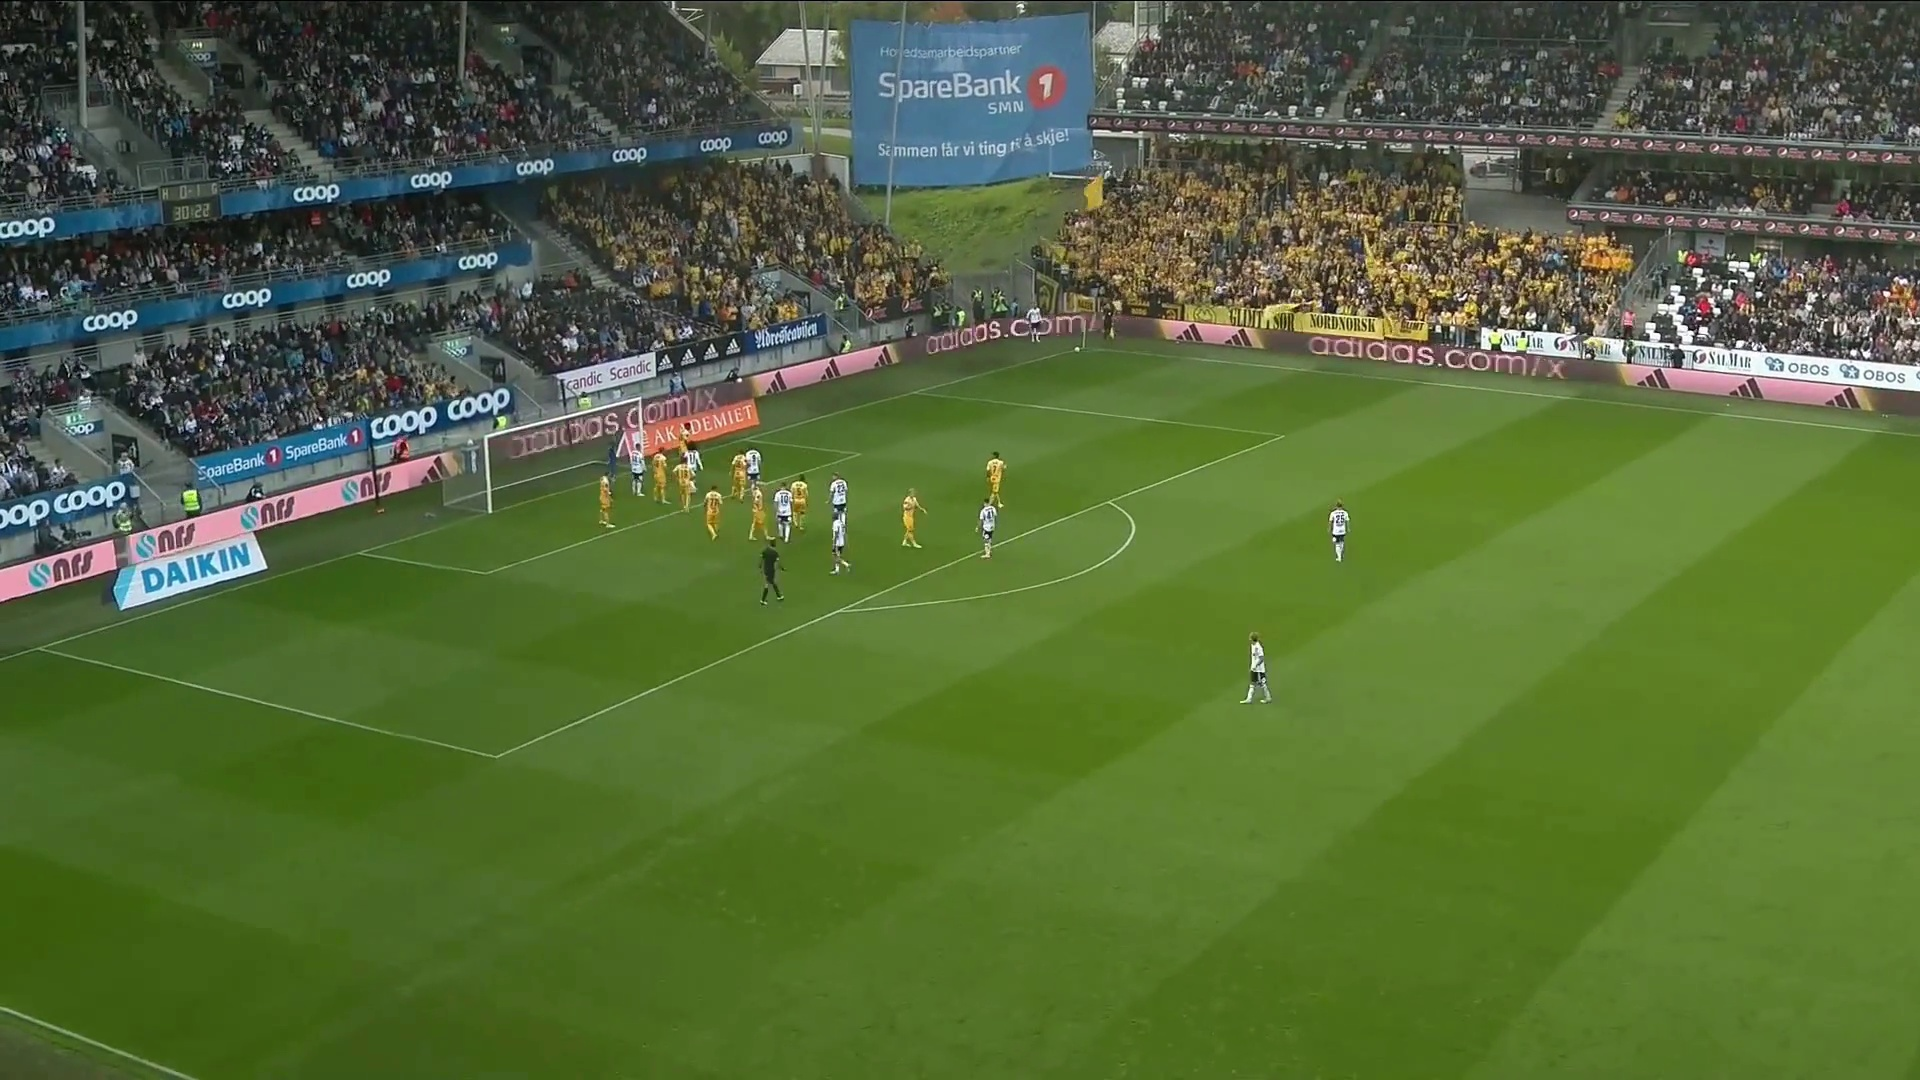ball: (1073, 346, 1081, 353)
player: (1239, 631, 1273, 705), (758, 540, 787, 605), (901, 487, 928, 548), (1328, 498, 1351, 563), (747, 483, 772, 542), (829, 511, 852, 575), (976, 496, 998, 560), (985, 450, 1007, 508), (773, 483, 794, 543), (673, 457, 695, 513), (789, 473, 809, 531), (703, 484, 723, 541), (826, 472, 848, 523), (650, 448, 670, 504), (683, 445, 704, 497), (730, 449, 748, 502), (629, 446, 647, 497), (598, 474, 615, 528), (744, 446, 763, 493), (1025, 304, 1045, 345), (683, 445, 704, 480), (1101, 302, 1117, 341), (605, 444, 619, 484), (678, 423, 691, 458)
